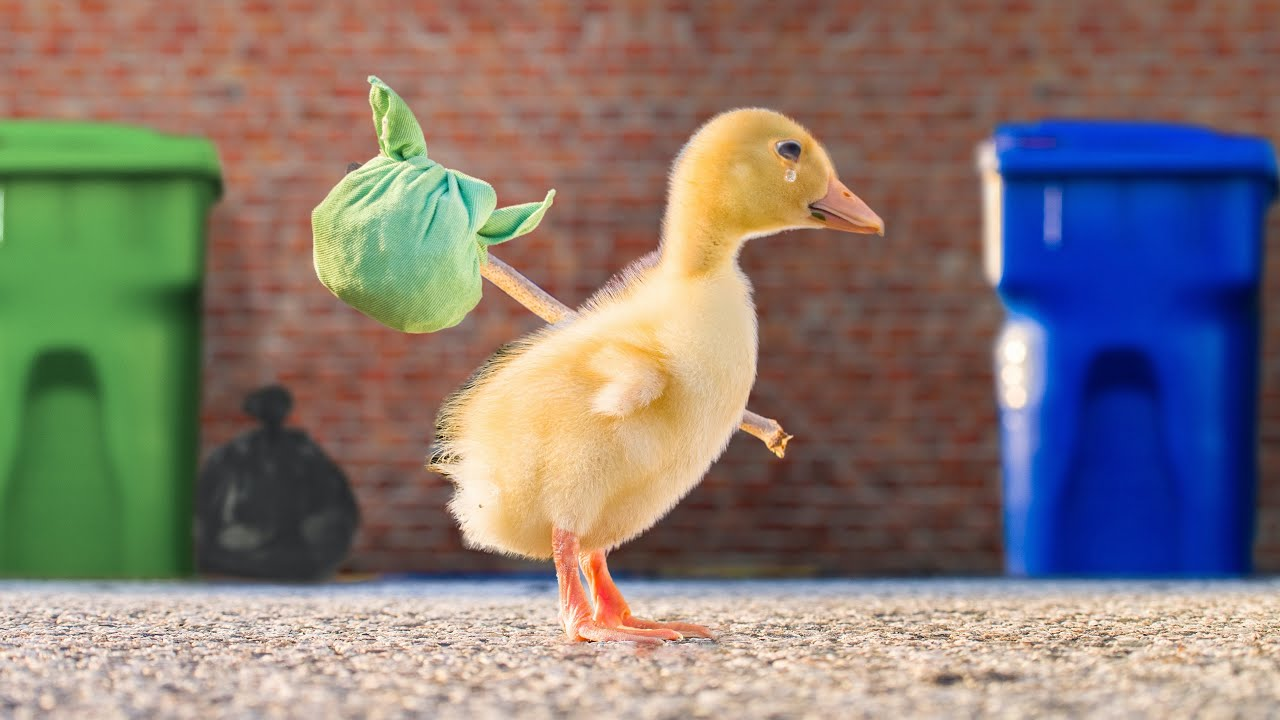Vịt/Duck: (424, 53, 913, 675)
